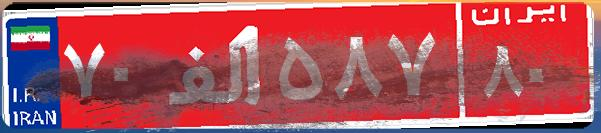0: (110, 28, 158, 105), (525, 38, 570, 115)
5: (273, 28, 330, 110)
7: (385, 28, 445, 110), (57, 26, 110, 107)
8: (330, 28, 385, 110), (475, 38, 525, 113)
الف: (158, 15, 273, 115)
